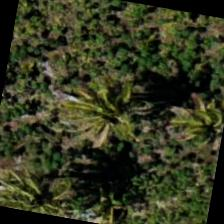Kelapa_Sawit: (56, 61, 160, 164), (1, 150, 100, 221), (166, 69, 223, 168)
